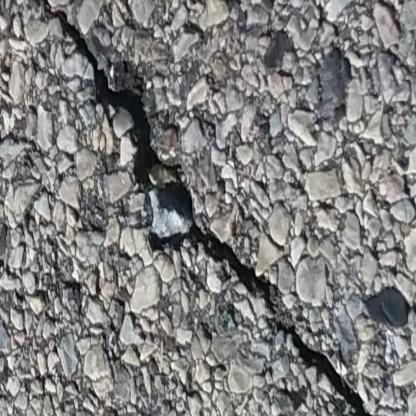Cracks: (31, 0, 403, 416)
